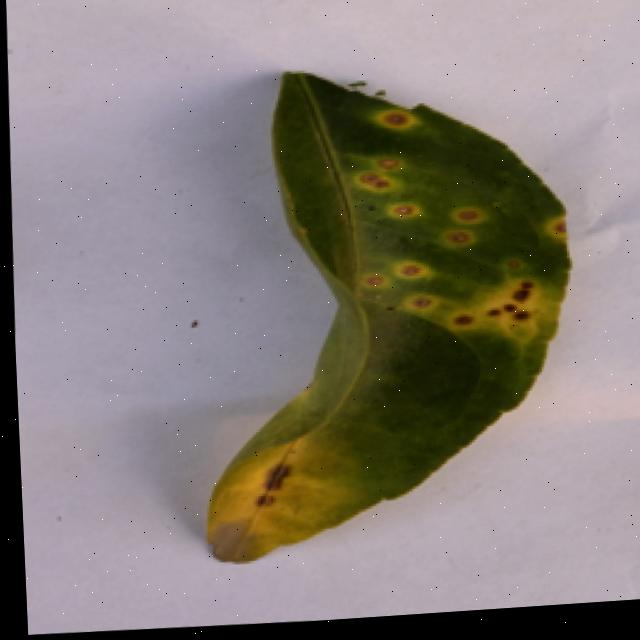canker: (207, 72, 567, 560), (344, 75, 589, 383), (242, 435, 305, 544)
